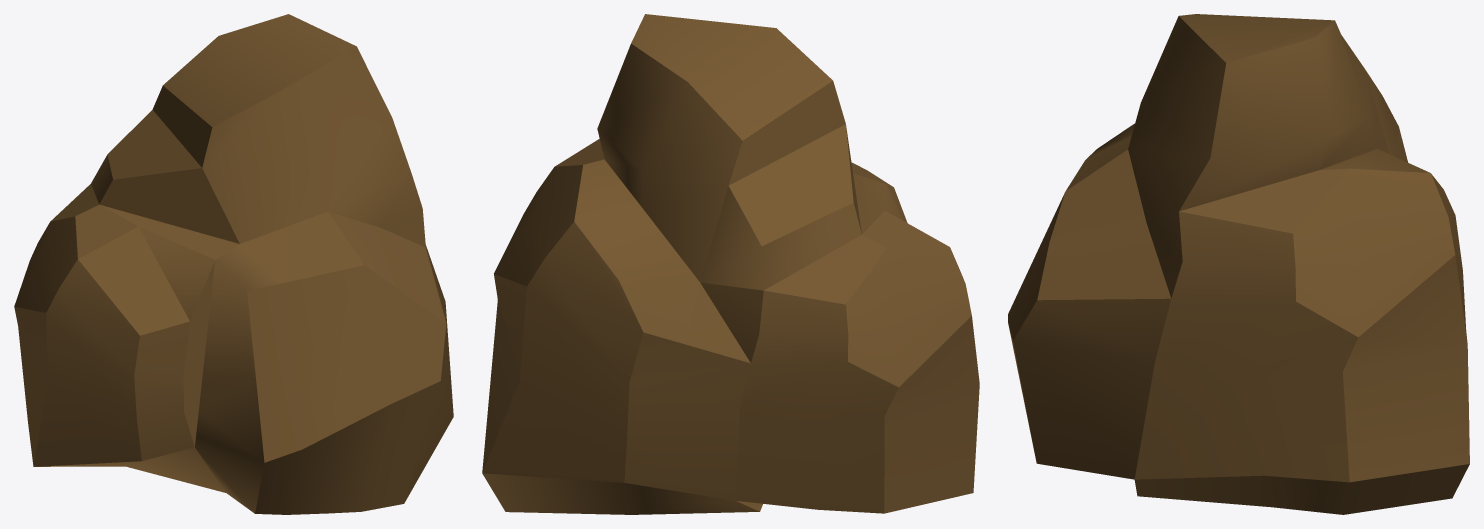
Rendered from low-rock.glb.
The picture shows the model from 3 angles, left to right: view 1: azimuth 30°, elevation 25°; view 2: azimuth 150°, elevation 25°; view 3: azimuth 270°, elevation 25°; orthographic projection. The views are drawn at different scales.
Parts seen in each view (by area): view 1: Rock_2; view 2: Rock_2; view 3: Rock_2.
Part boxes in pixels (x1,y1,x2,y2): Rock_2: (14,14,453,514); Rock_2: (482,14,979,514); Rock_2: (1008,14,1469,514).
Bounding box in the file's own units: 1.01 × 1 × 0.929.
1 material, 1 textured.
